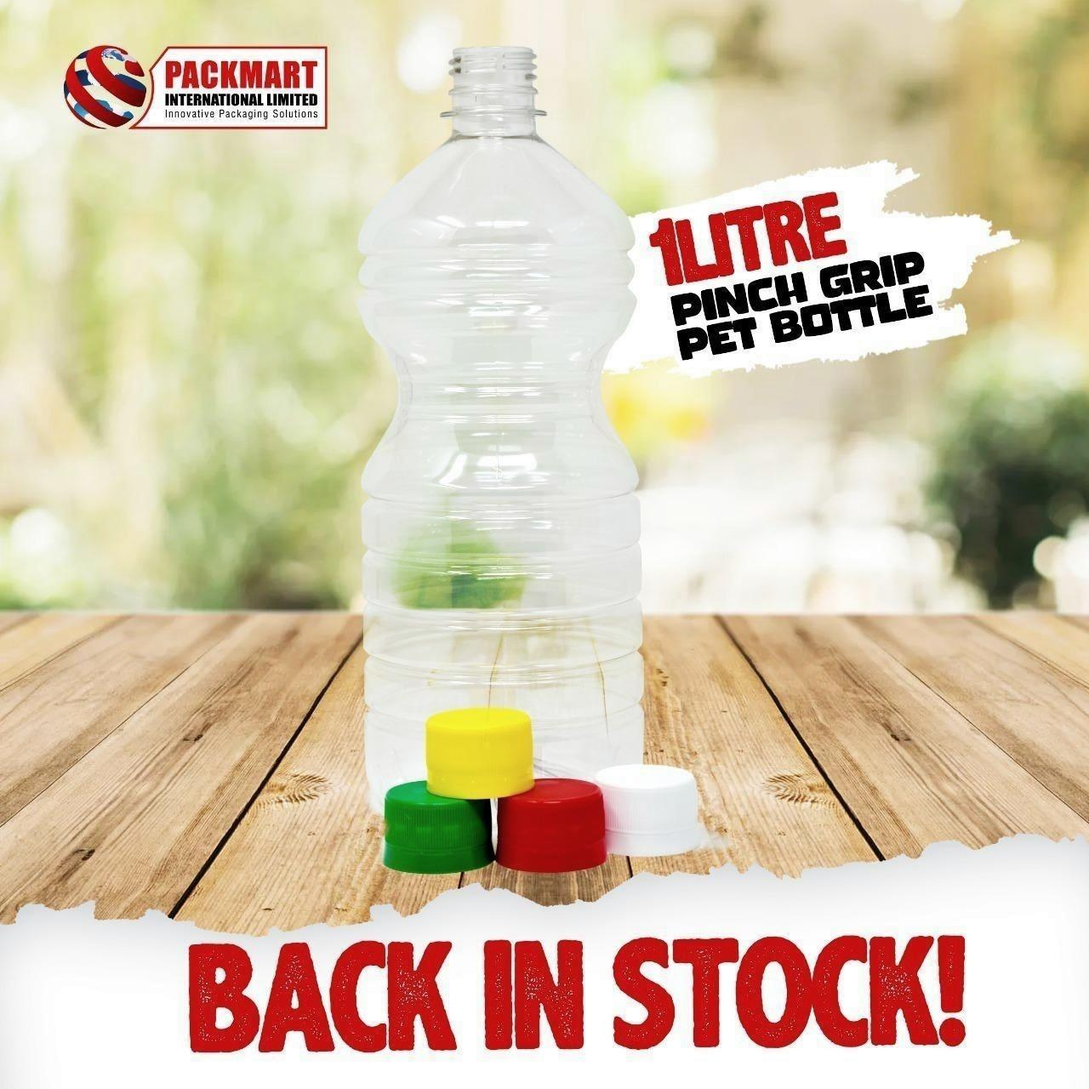bottle-plastic: (343, 38, 659, 824)
